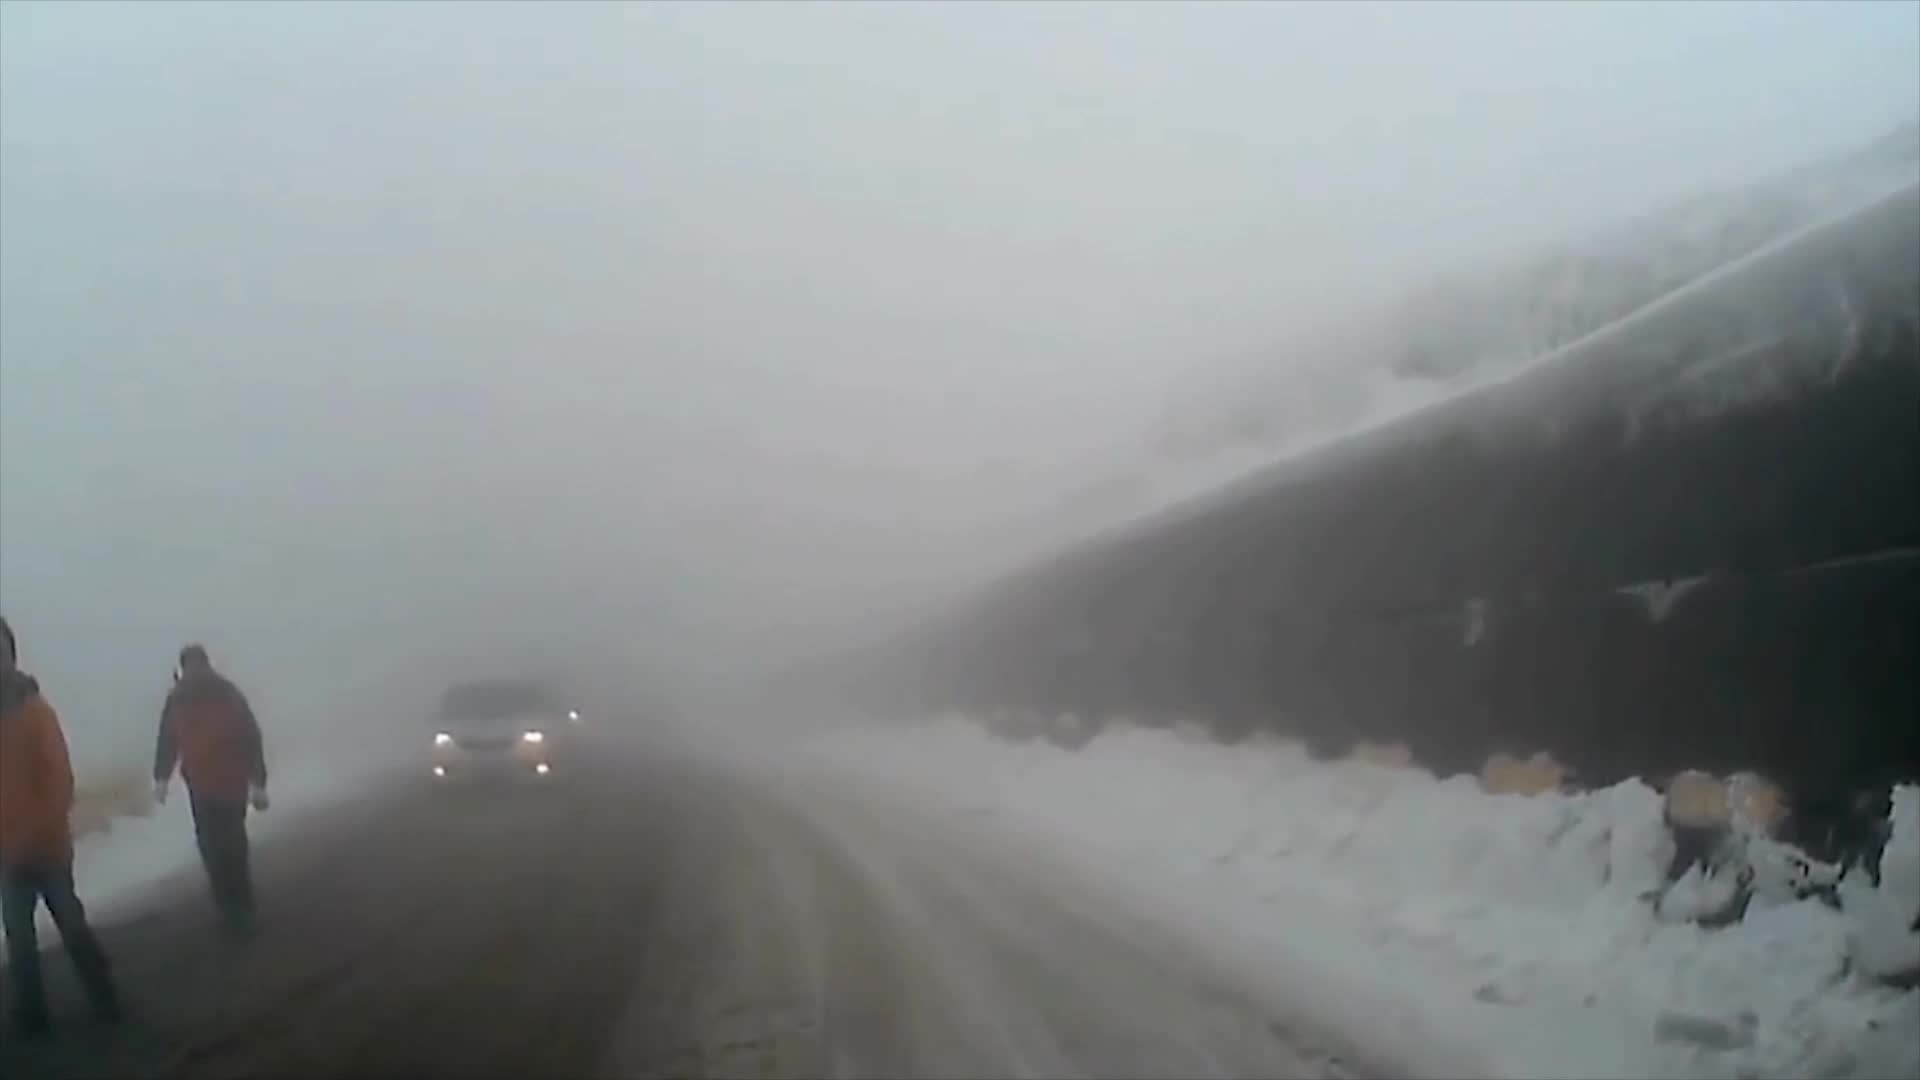pedestrian: (1, 617, 132, 1024), (152, 638, 270, 919)
vehicle: (416, 669, 569, 797)
